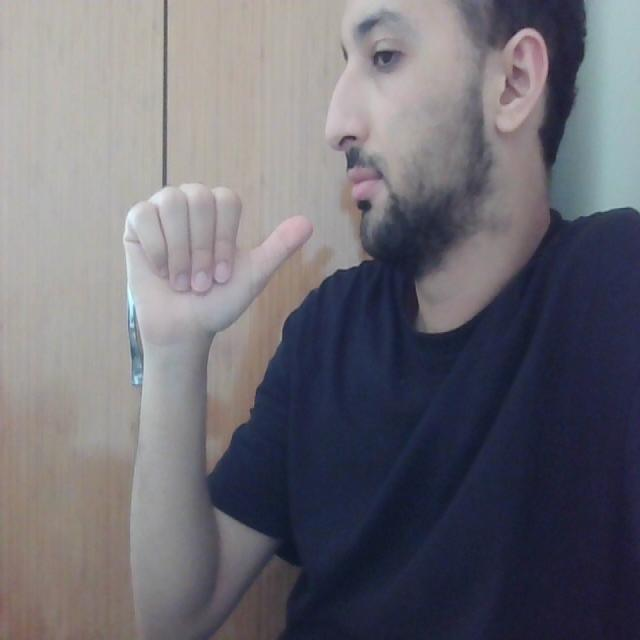icmek: (122, 118, 401, 330)
